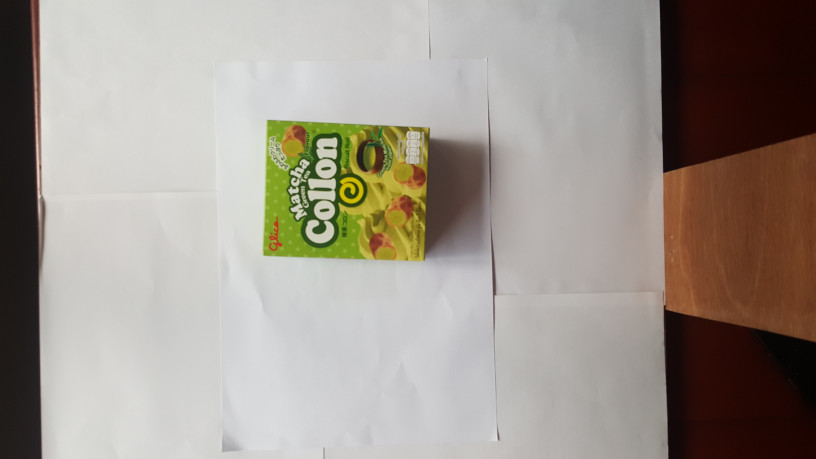collon-matcha: (257, 118, 430, 262)
